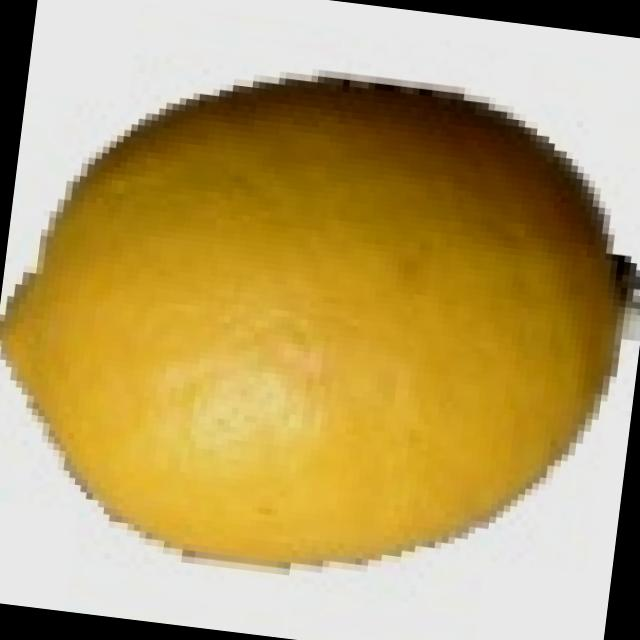lemon: (0, 25, 640, 631)
